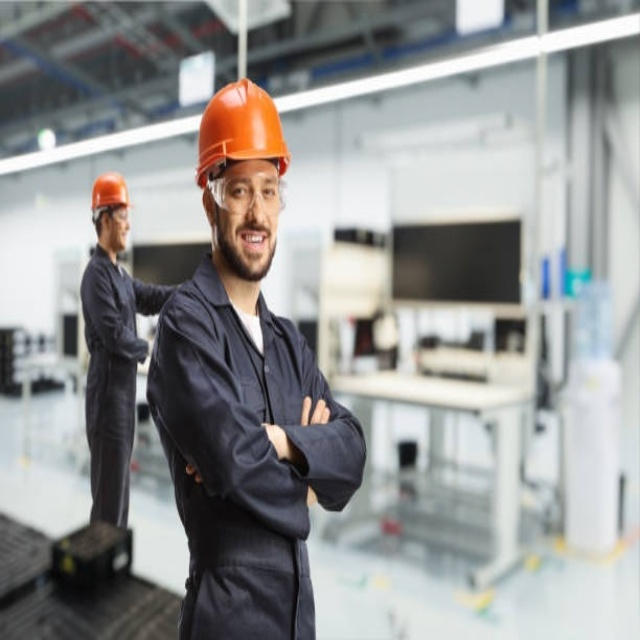Gafas: (209, 171, 291, 213), (94, 207, 130, 223)
Sin_guantes: (297, 384, 336, 428)
Sin_mascara: (231, 223, 273, 264)
